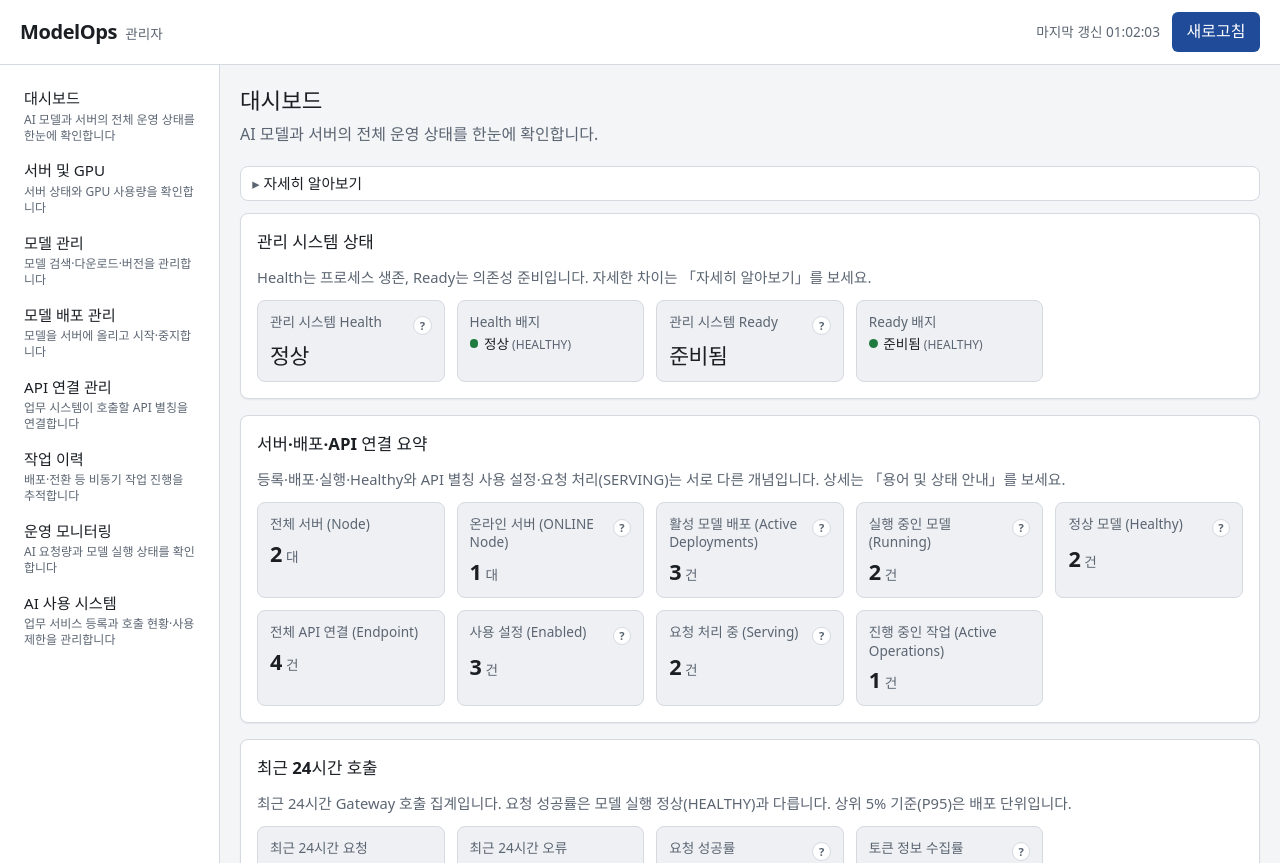
Test: DashboardPage › preserves prior data and timestamp when refresh totally fails
Expected: the heading "온라인 서버 (ONLINE Node)" is shown, [470, 515, 607, 552]
Click the button "새로고침" at (1216, 32), box [1172, 12, 1260, 52]
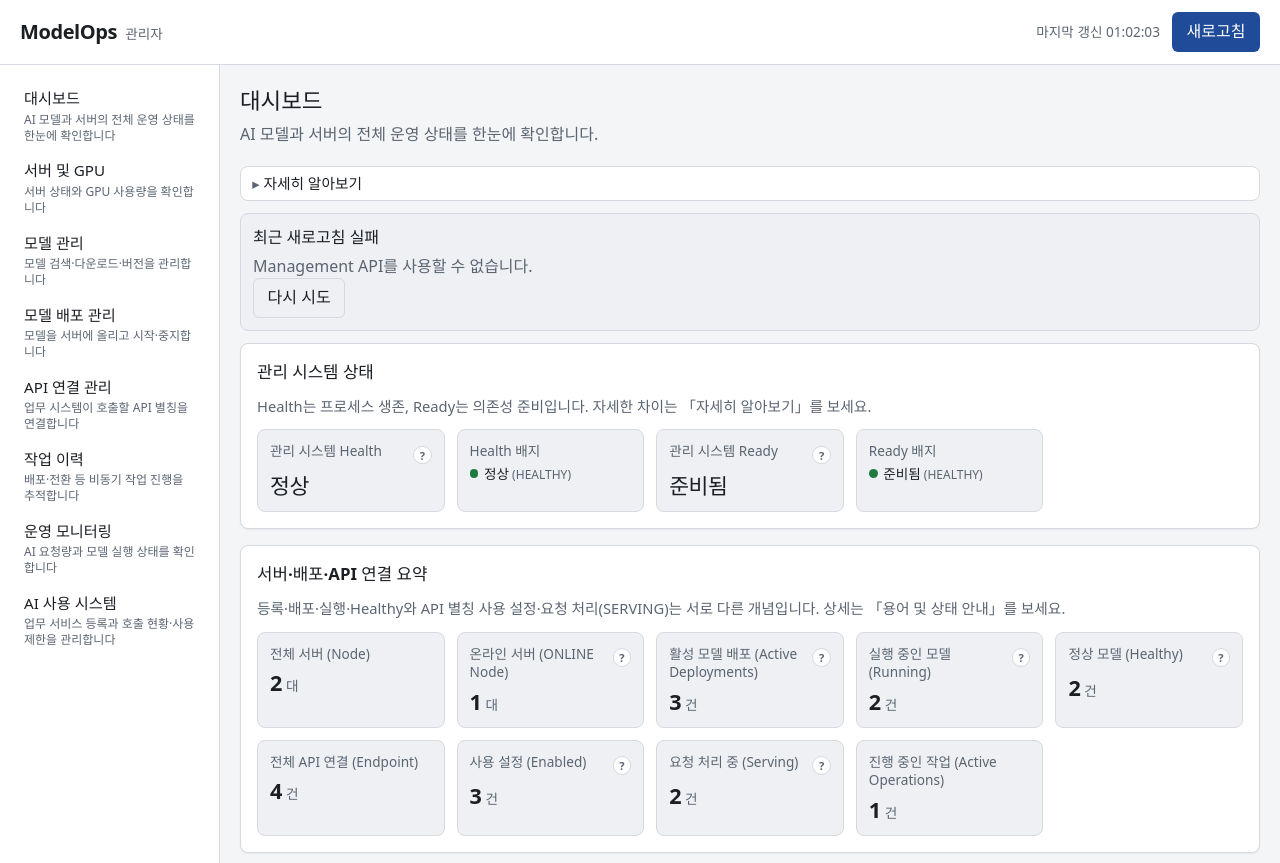
Expected: the heading "온라인 서버 (ONLINE Node)" is shown, [470, 645, 607, 681]
Now the text "최근 새로고침 실패" is shown, box [253, 226, 379, 248]
